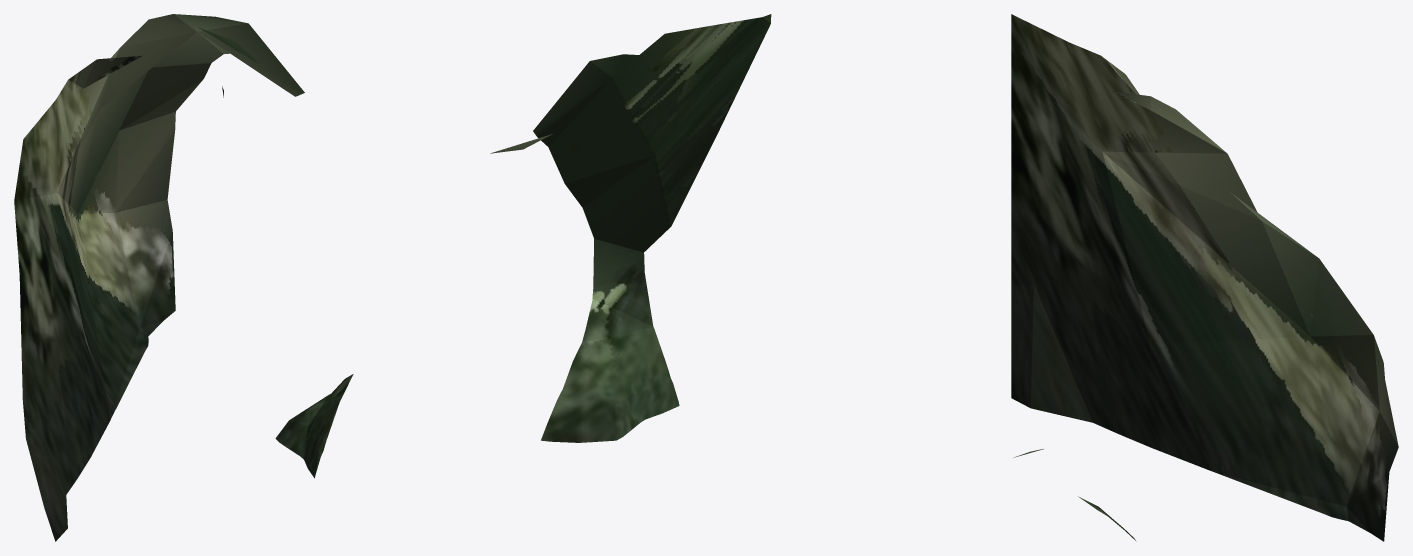
3 renders of one model, left to right at view 1: azimuth 30°, elevation 25°; view 2: azimuth 150°, elevation 25°; view 3: azimuth 270°, elevation 25°, orthographic. The views are drawn at different scales.
Bounding box in the file's own units: 2.77 × 2.95 × 2.8.
Materials: 4 (4 with a texture image).
